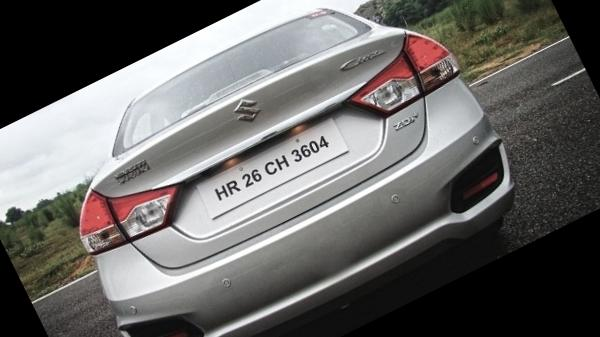plate: (183, 108, 357, 229)
